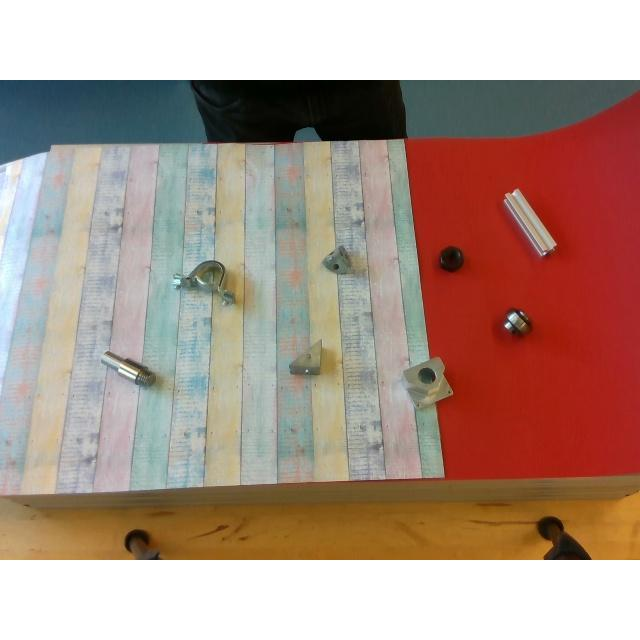Axis2: (100, 352, 156, 384)
Bearing2: (504, 306, 532, 338)
F20_20_G: (503, 188, 555, 256)
Housing: (172, 260, 236, 304)
M20: (438, 246, 464, 270)
